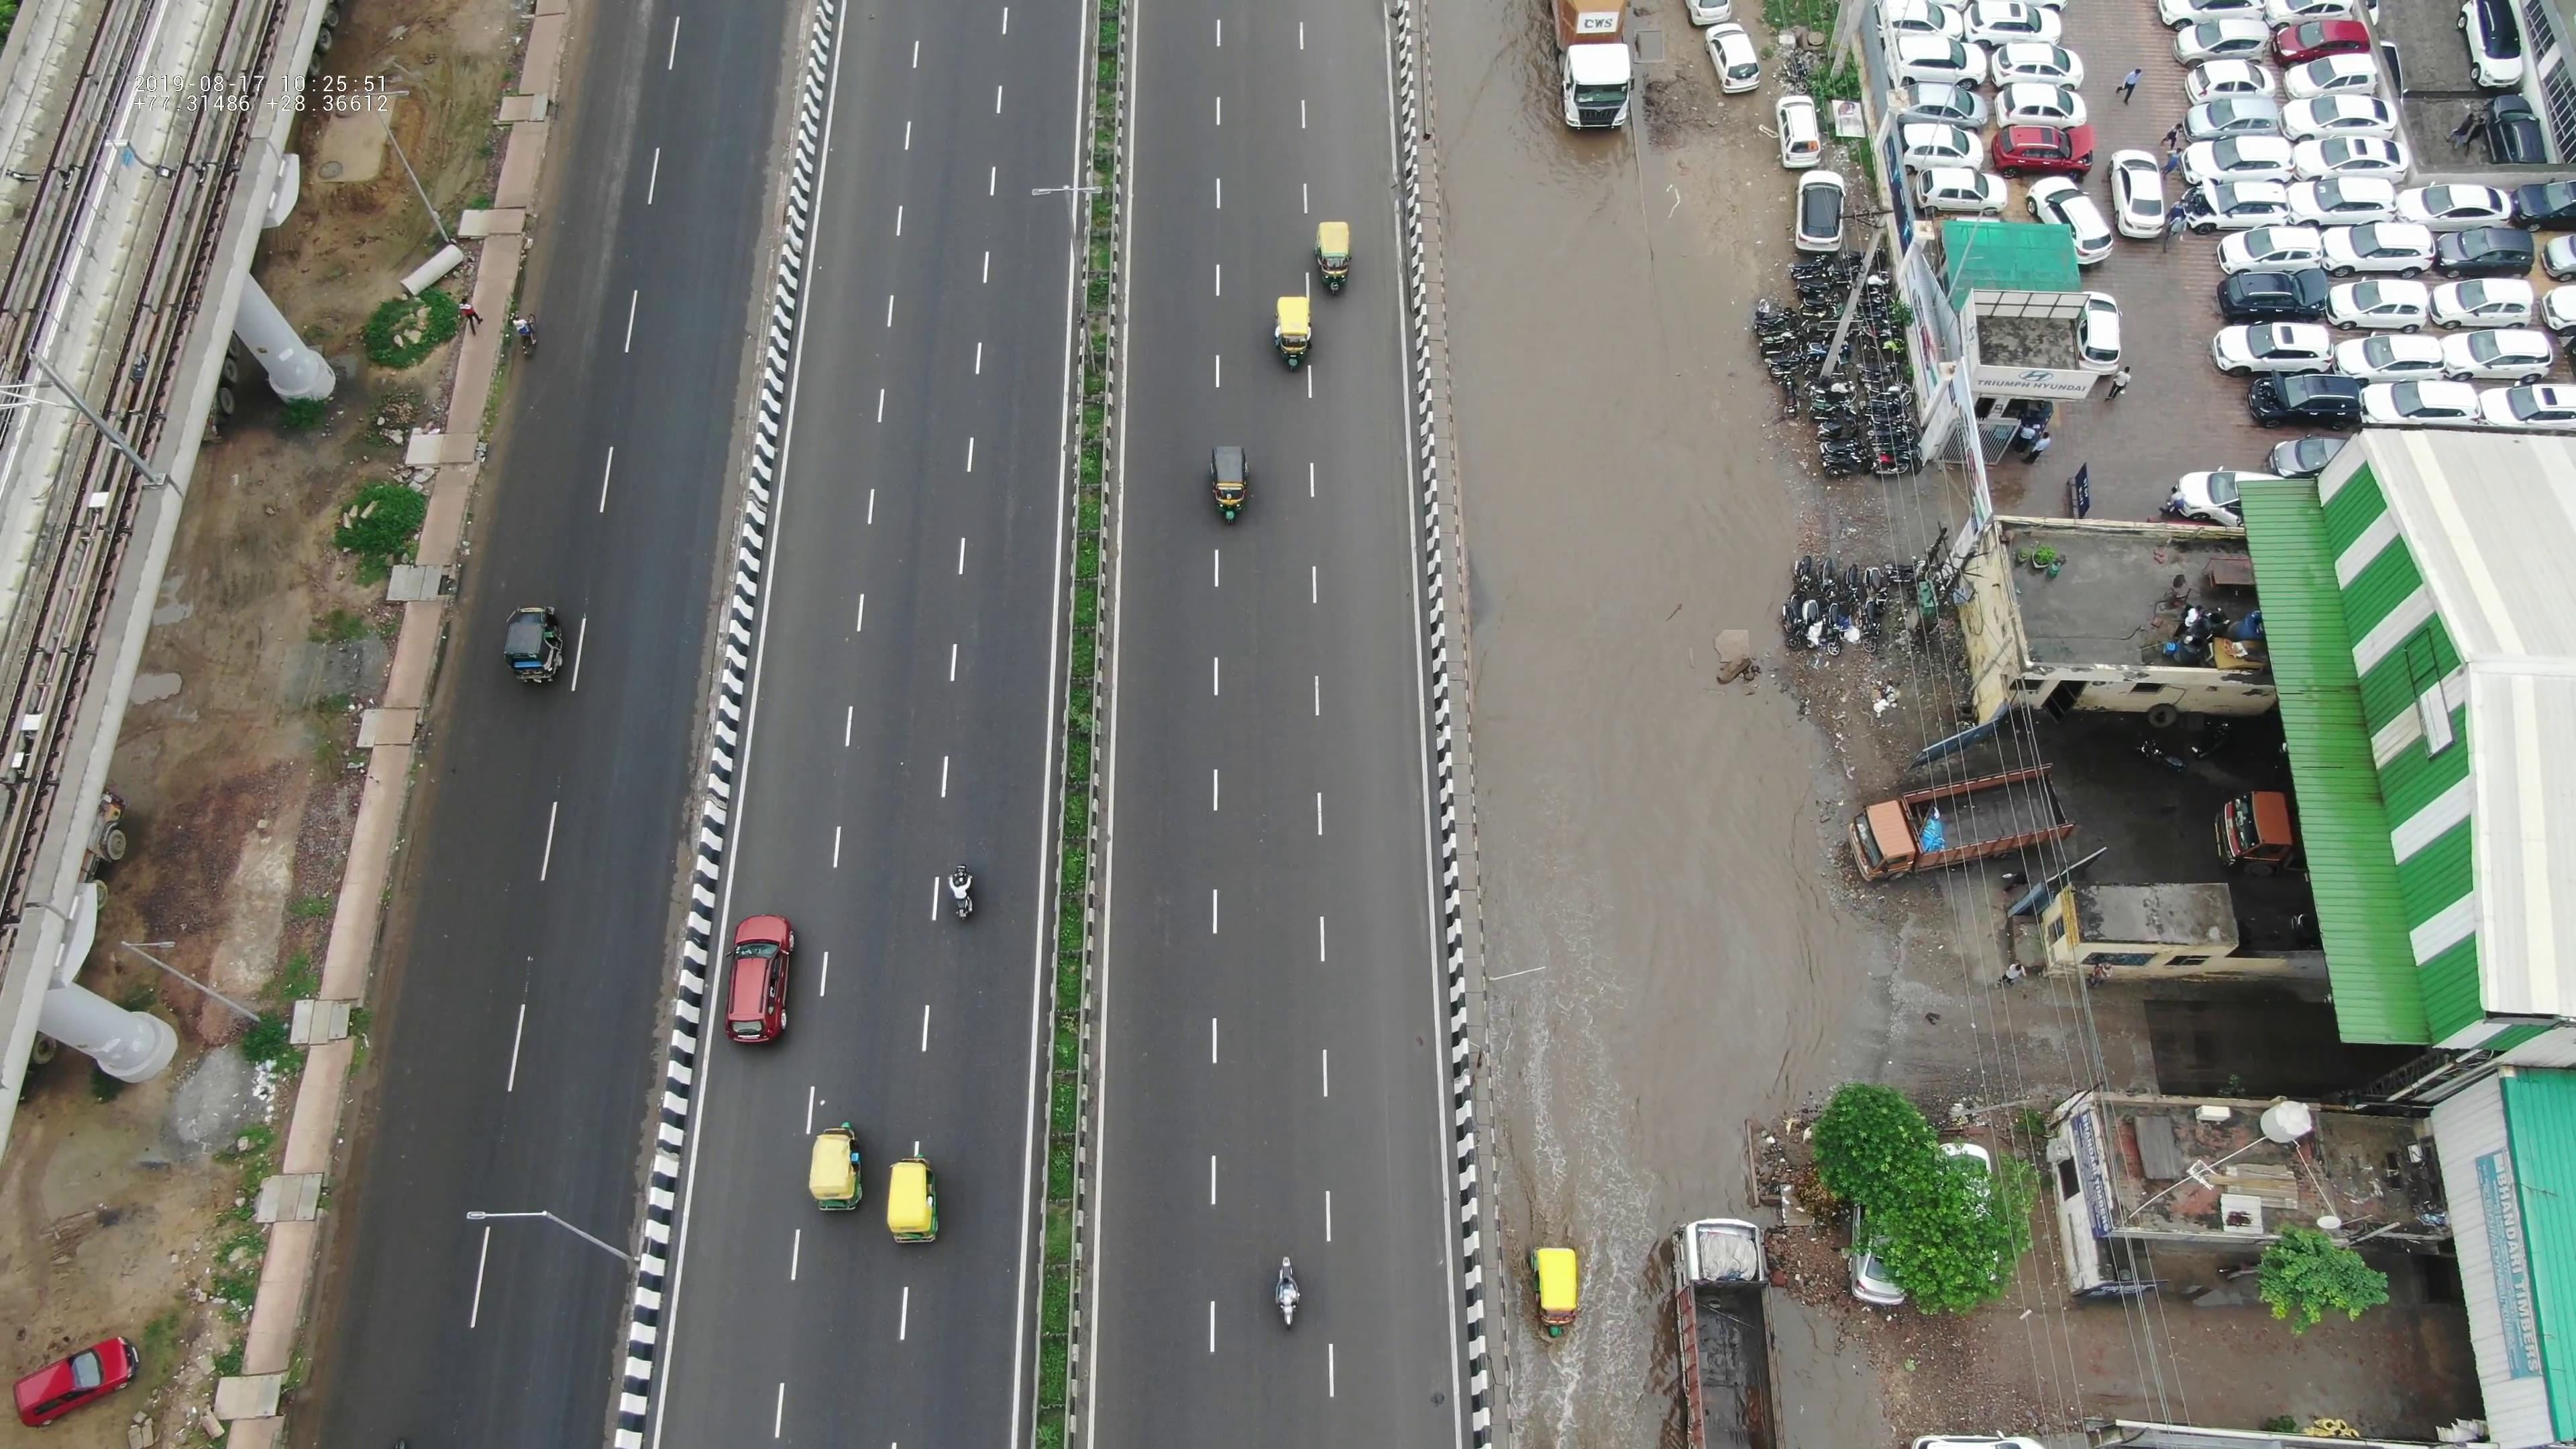Waterlogging: (1467, 419, 1785, 1187), (1408, 9, 1644, 356)
